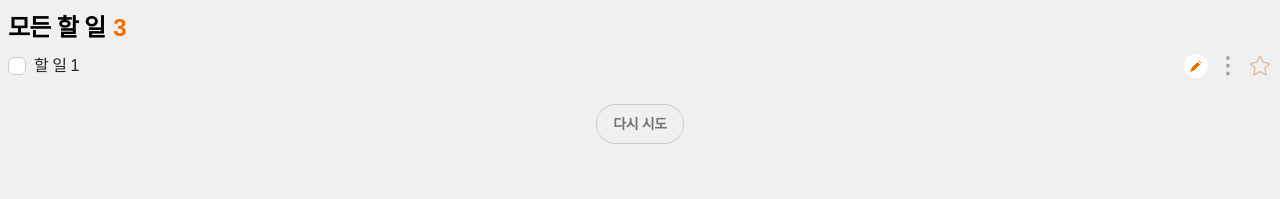
TodoList › 다음 페이지가 실패해도 불러온 목록은 유지하고 이어서 다시 시도할 수 있다
Expected: the button "할 일 1" is shown, left=34, top=54, right=1176, bottom=78
Click the button "다시 시도".
click(640, 124)  # box left=596, top=104, right=684, bottom=144
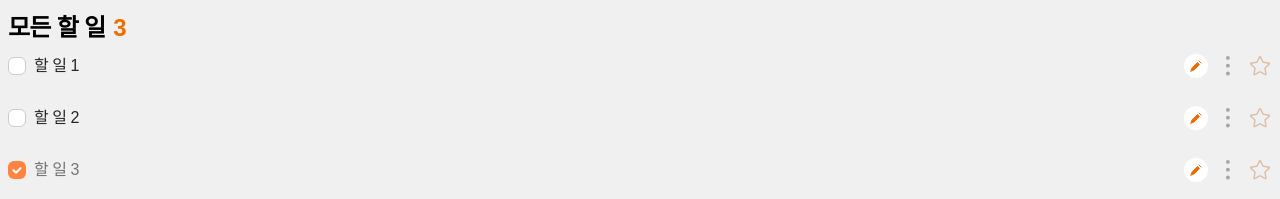
Expected: the button "할 일 1" is shown, left=34, top=54, right=1176, bottom=78
Now the button "할 일 2" is shown, box left=34, top=106, right=1176, bottom=130
Now the button "할 일 3" is shown, box left=34, top=158, right=1176, bottom=182
